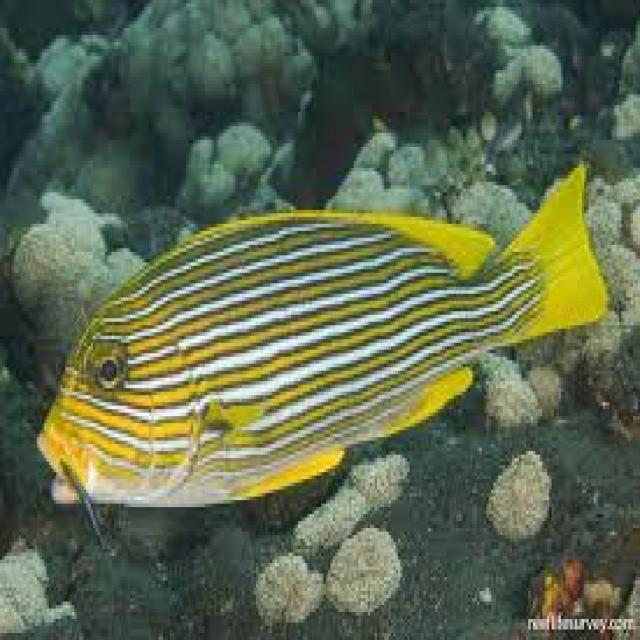RibbonedSweetlips: (35, 154, 610, 538)
